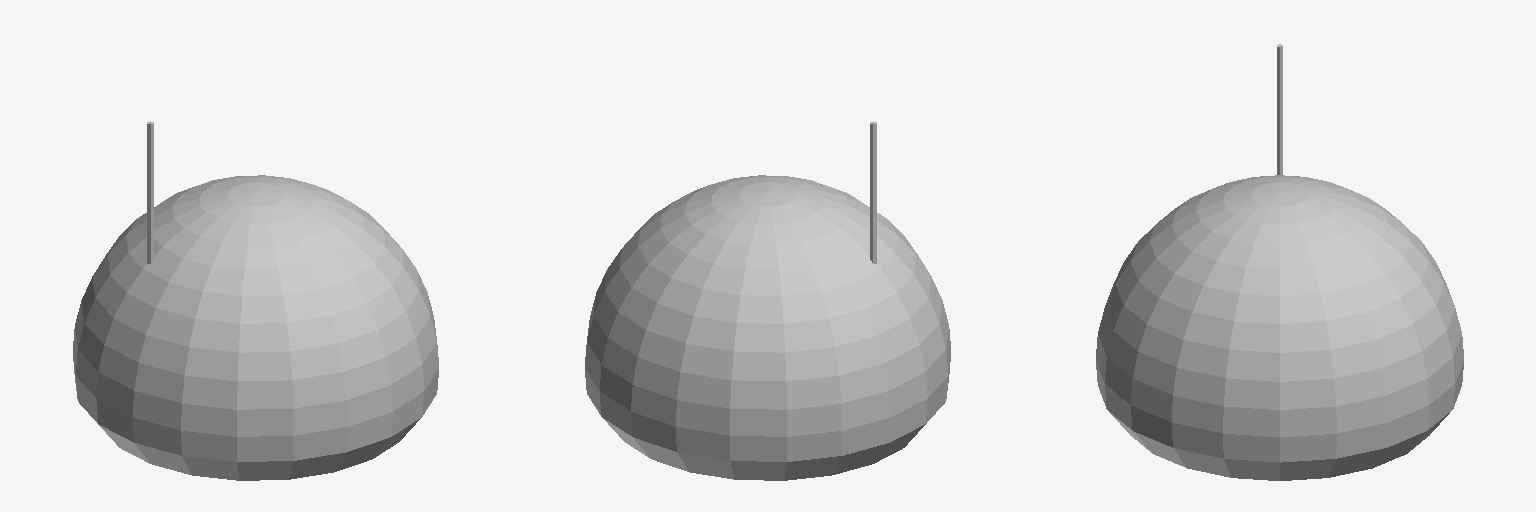
File: BB8Head.obj
The picture shows the model from 3 angles: view 1: azimuth 30°, elevation 25°; view 2: azimuth 150°, elevation 25°; view 3: azimuth 270°, elevation 25°; orthographic projection.
Parts seen in each view (by area): view 1: polySurface2 pCylinder3, pCylinder3 polySurface1; view 2: polySurface2 pCylinder3, pCylinder3 polySurface1; view 3: polySurface2 pCylinder3, pCylinder3 polySurface1.
Part boxes in pixels (left/top/right/bottom): polySurface2 pCylinder3: left=73, top=175, right=438, bottom=480; pCylinder3 polySurface1: left=147, top=121, right=153, bottom=263; polySurface2 pCylinder3: left=585, top=175, right=950, bottom=480; pCylinder3 polySurface1: left=870, top=121, right=876, bottom=263; polySurface2 pCylinder3: left=1096, top=175, right=1463, bottom=480; pCylinder3 polySurface1: left=1277, top=44, right=1282, bottom=174.
Bounding box in the file's own units: 1.34 × 1.28 × 1.34.